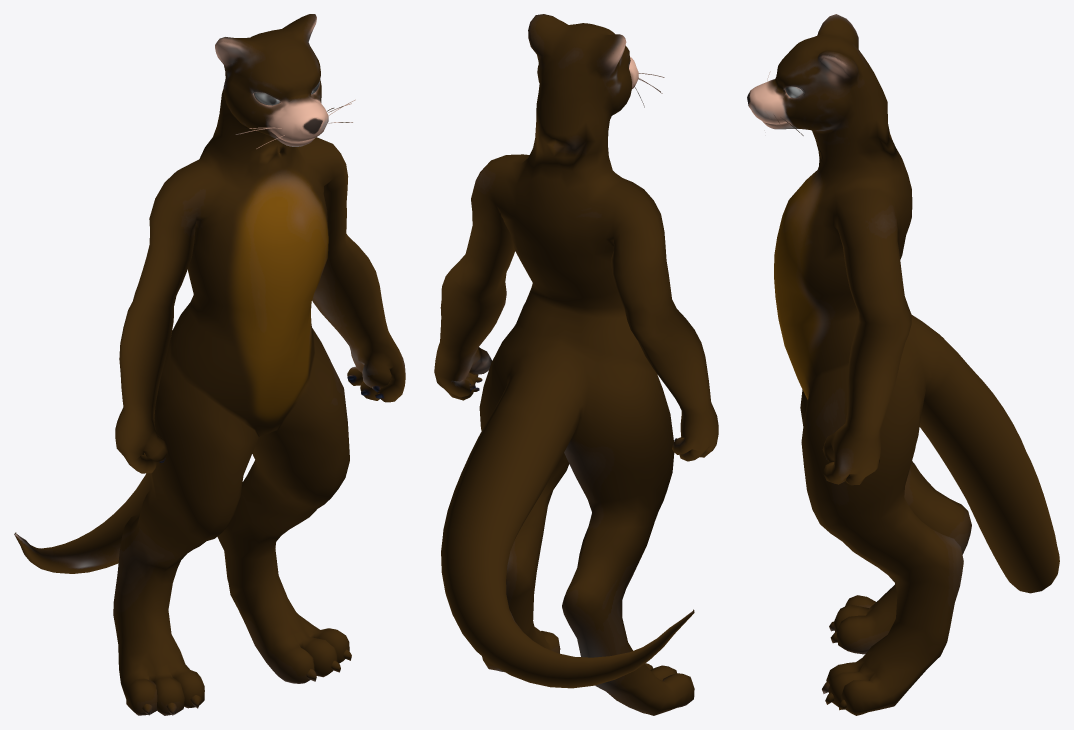
File: Otter1.fbx
3 views of the same model, side by side, from view 1: azimuth 30°, elevation 25°; view 2: azimuth 150°, elevation 25°; view 3: azimuth 270°, elevation 25° (orthographic). The views are drawn at different scales.
Parts seen in each view (by area): view 1: Plane_001; view 2: Plane_001; view 3: Plane_001.
Part boxes in pixels (left/top/right/bottom): Plane_001: left=14, top=14, right=405, bottom=715; Plane_001: left=434, top=14, right=718, bottom=715; Plane_001: left=747, top=14, right=1059, bottom=715.
Bounding box in the file's own units: 61.73 × 121 × 52.82.
